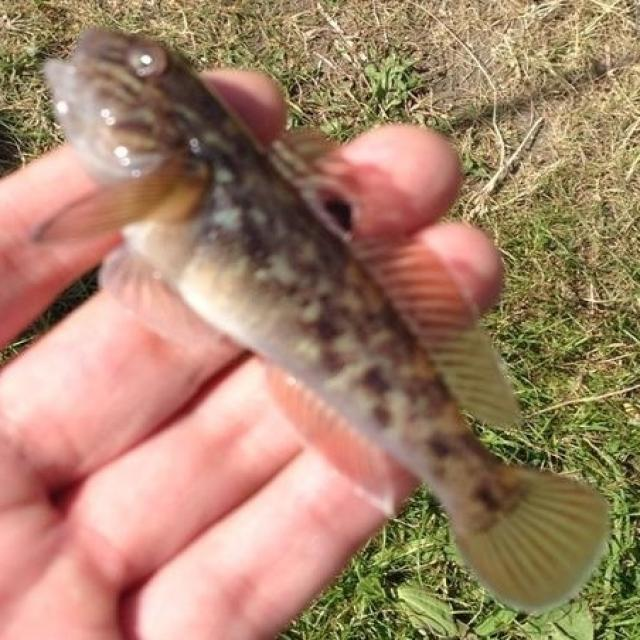Goby: (39, 7, 611, 614)
